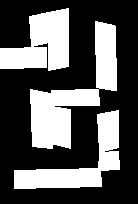parkingspot: (14, 168, 101, 188), (95, 21, 116, 90), (30, 89, 52, 148), (48, 8, 68, 70), (0, 47, 46, 68), (97, 110, 118, 152), (51, 106, 70, 148), (51, 89, 99, 105), (29, 12, 49, 46), (98, 151, 119, 170)
